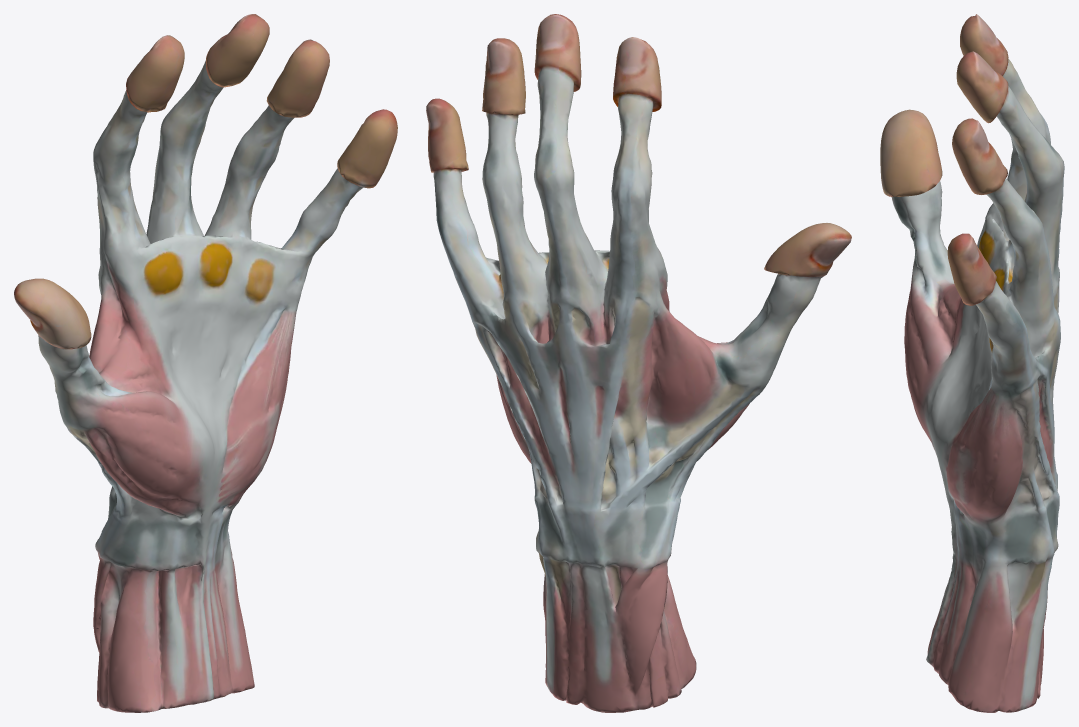
The model's file is 手_20260324192014_opt.glb.
3 renders of one model, left to right at view 1: azimuth 30°, elevation 25°; view 2: azimuth 150°, elevation 25°; view 3: azimuth 270°, elevation 25°, orthographic. The views are drawn at different scales.
Parts seen in each view (by area): view 1: PalmAnatomy_Low; view 2: PalmAnatomy_Low; view 3: PalmAnatomy_Low.
Boxes of the visible parts, x1,y1,x2,y2 form: PalmAnatomy_Low: (14, 14, 397, 712); PalmAnatomy_Low: (426, 14, 851, 712); PalmAnatomy_Low: (880, 14, 1064, 712).
Size of the model in its own units: 0.2206 by 0.3513 by 0.088.
Materials: 1 (1 with a texture image).
